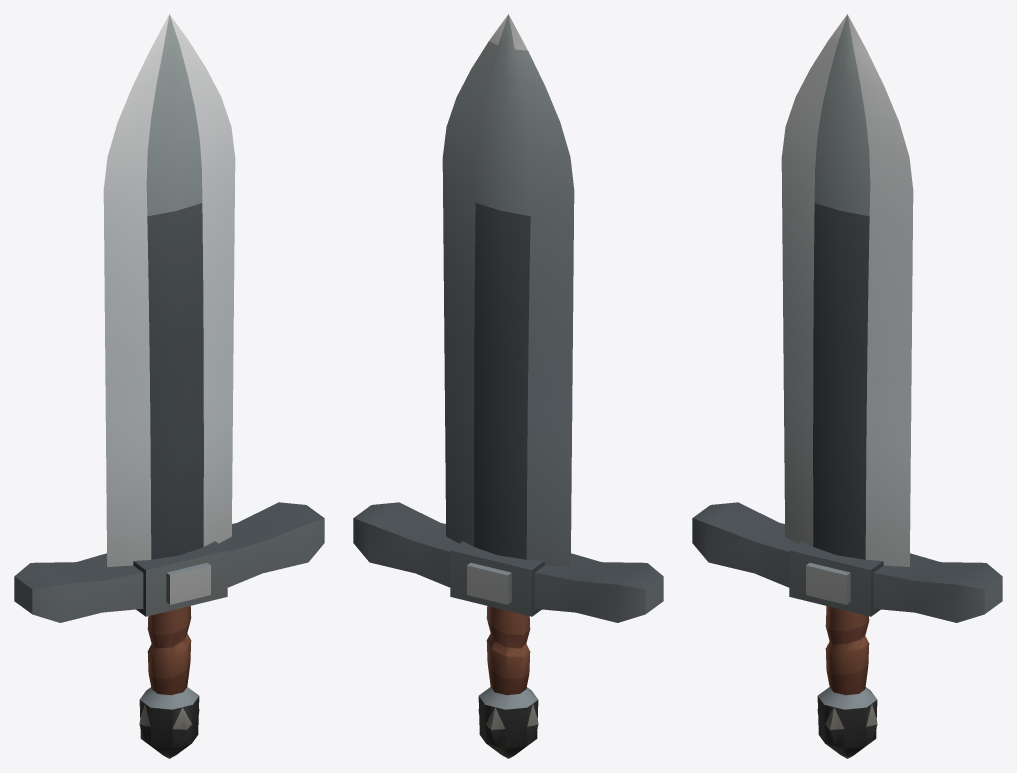
File: broadsword_iron.glb
3 views of the same model, side by side, from view 1: azimuth 30°, elevation 25°; view 2: azimuth 150°, elevation 25°; view 3: azimuth 330°, elevation 25° (orthographic).
Parts seen in each view (by area): view 1: Item; view 2: Item; view 3: Item.
Boxes of the visible parts, x1=… form: Item: x1=14, y1=14, x2=324, y2=758; Item: x1=353, y1=14, x2=663, y2=758; Item: x1=692, y1=14, x2=1002, y2=758.
Size of the model in its own units: 0.96 by 2.34 by 0.24.
3 materials, 3 textured.
